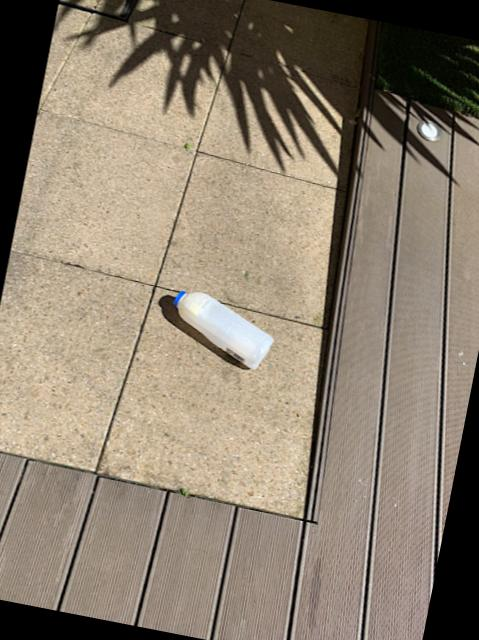plastic: (172, 289, 271, 367)
